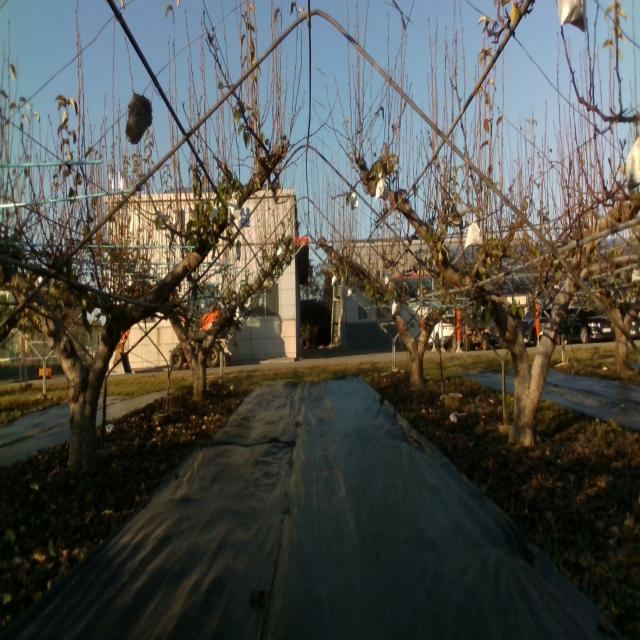pearbags: (464, 220, 482, 248), (374, 173, 389, 202), (228, 194, 241, 221)
